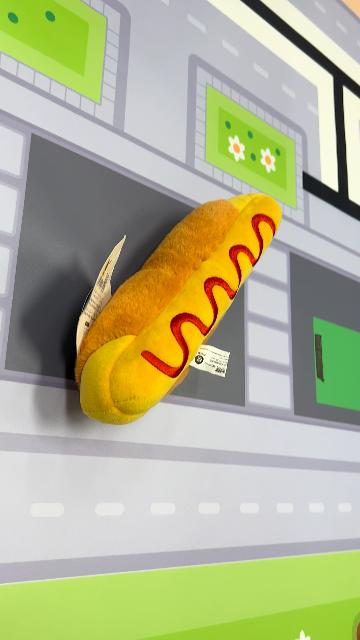hotdog: (74, 191, 284, 427)
